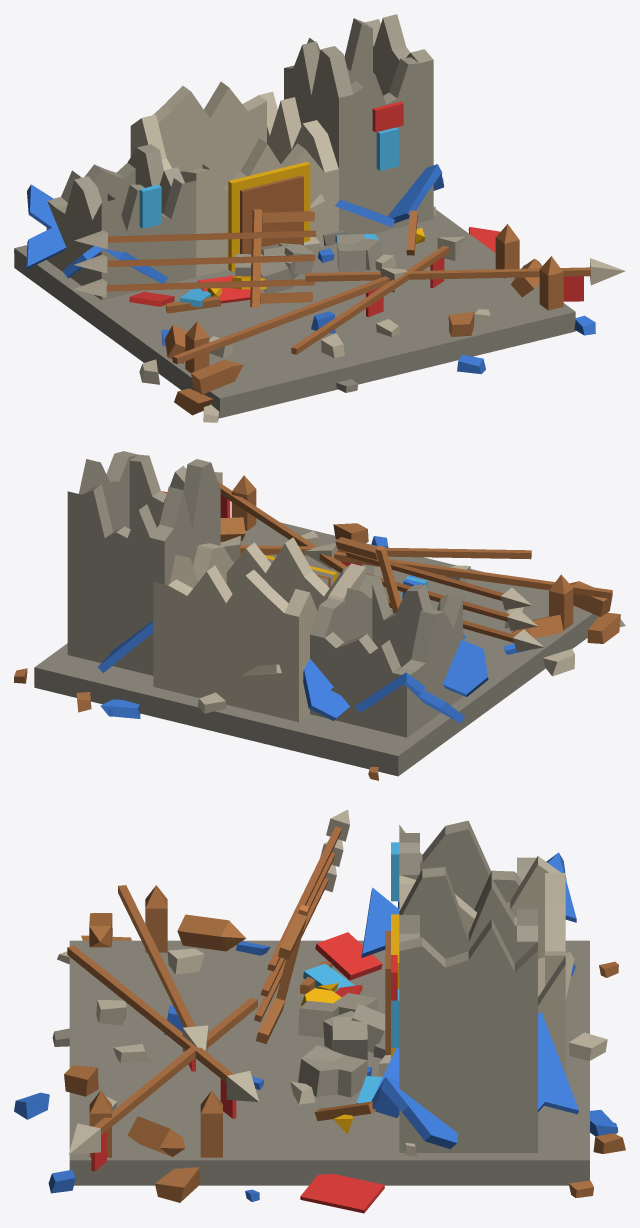
The model's file is barracks_t3_v2_dmg2.glb.
3 views of the same model, one above another, from view 1: azimuth 30°, elevation 25°; view 2: azimuth 150°, elevation 25°; view 3: azimuth 270°, elevation 25° (orthographic). The views are drawn at different scales.
Parts seen in each view (by area): view 1: barracks_t3_v2_dmg2; view 2: barracks_t3_v2_dmg2; view 3: barracks_t3_v2_dmg2.
Part boxes in pixels (left/top/right/bottom): barracks_t3_v2_dmg2: left=14, top=14, right=625, bottom=422; barracks_t3_v2_dmg2: left=14, top=451, right=625, bottom=780; barracks_t3_v2_dmg2: left=14, top=809, right=625, bottom=1213.
Size of the model in its own units: 0.9439 by 0.4019 by 0.8822.
1 material, 1 textured.
